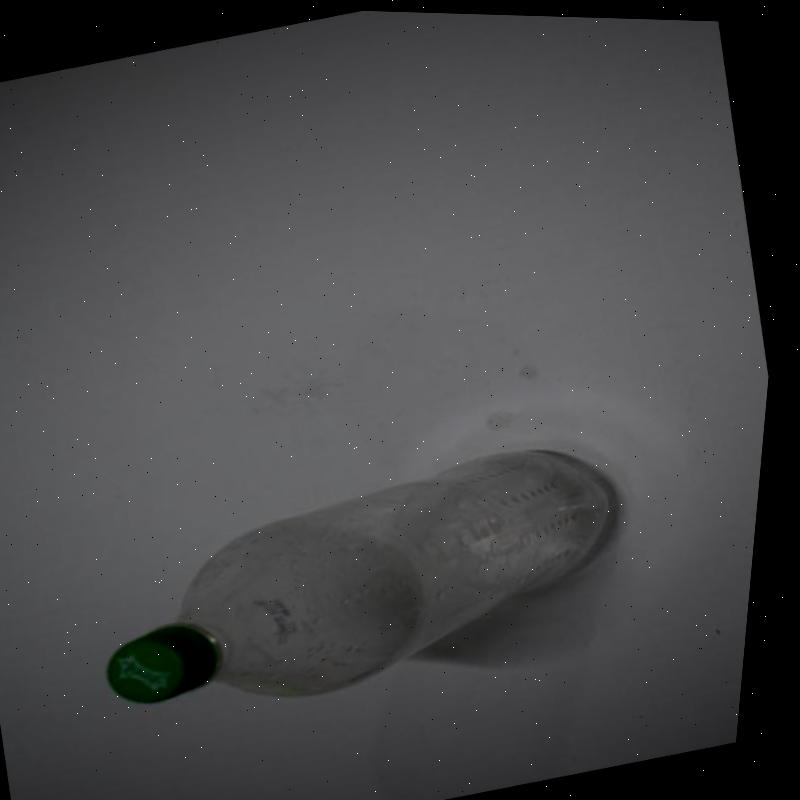botella: (82, 413, 655, 747)
